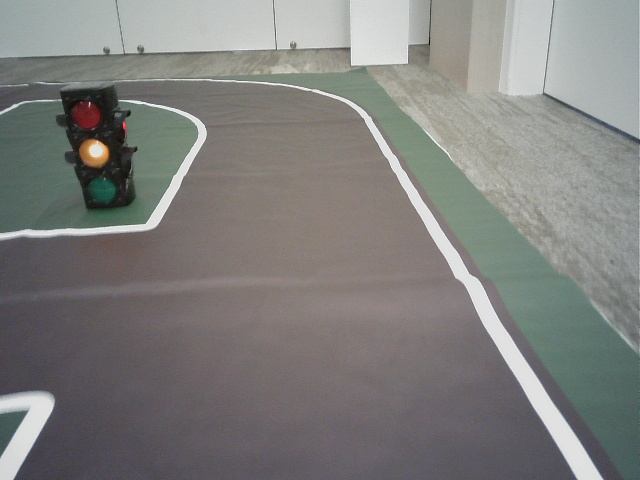yellow: (61, 93, 122, 201)
